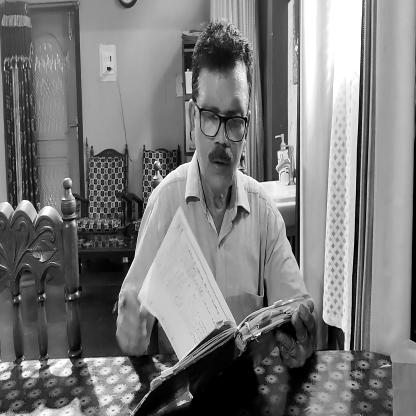Normal: (184, 19, 253, 197), (236, 299, 319, 413)
